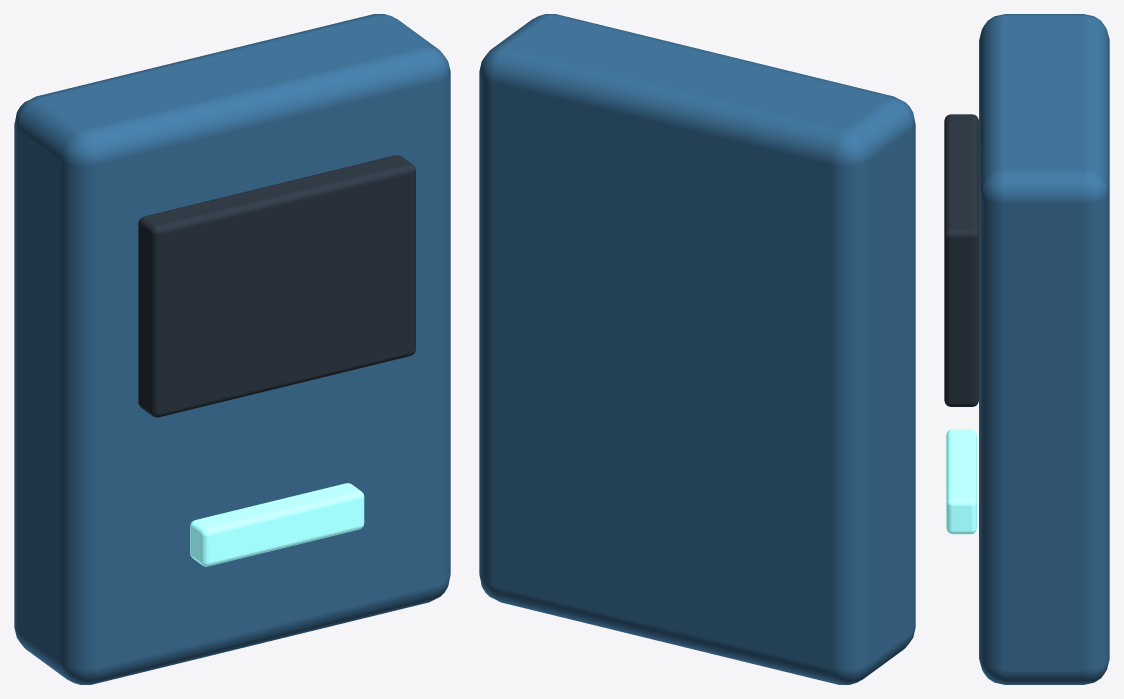
File: squash-club-and-racket-workshop-membership-card-reader-663ccdba__29776.glb
The picture shows the model from 3 angles, left to right: view 1: azimuth 30°, elevation 25°; view 2: azimuth 150°, elevation 25°; view 3: azimuth 270°, elevation 25°; orthographic projection. The views are drawn at different scales.
Visible parts, largest first — view 1: membership-card-reader; view 2: membership-card-reader; view 3: membership-card-reader.
Boxes of the visible parts, left/top/right/bottom form: membership-card-reader: left=14, top=14, right=450, bottom=684; membership-card-reader: left=479, top=14, right=915, bottom=684; membership-card-reader: left=944, top=14, right=1109, bottom=684.
Bounding box in the file's own units: 0.095 × 0.13 × 0.038.
